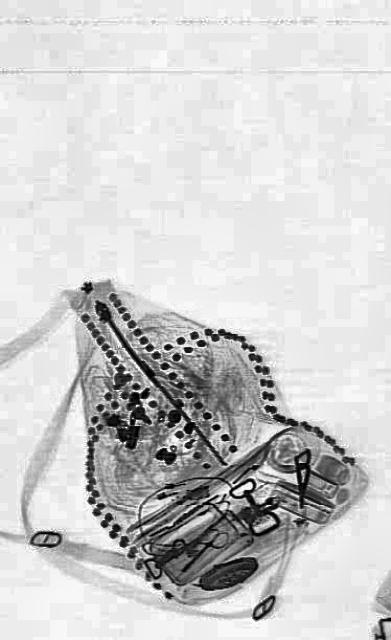Scissors: (176, 510, 231, 584)
